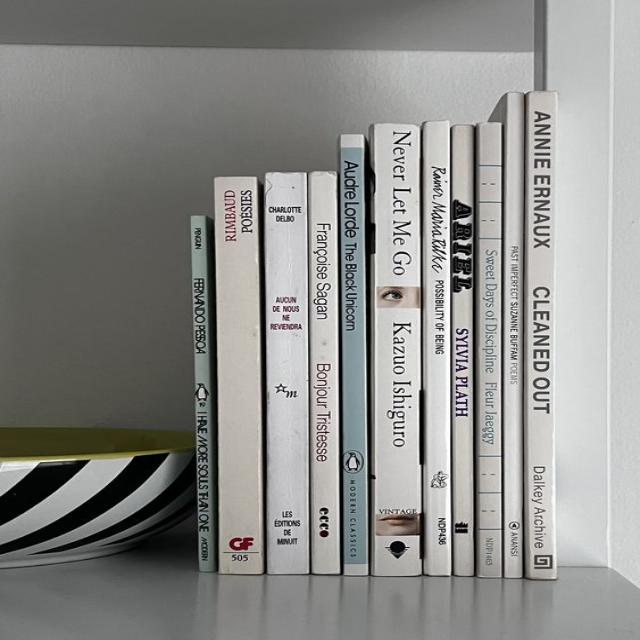book: (371, 125, 421, 575), (217, 176, 263, 574), (265, 171, 308, 575), (528, 92, 557, 577), (423, 122, 452, 575), (308, 171, 340, 575), (342, 133, 368, 574), (478, 122, 502, 576), (452, 125, 474, 577), (191, 217, 215, 571), (506, 95, 523, 580)
